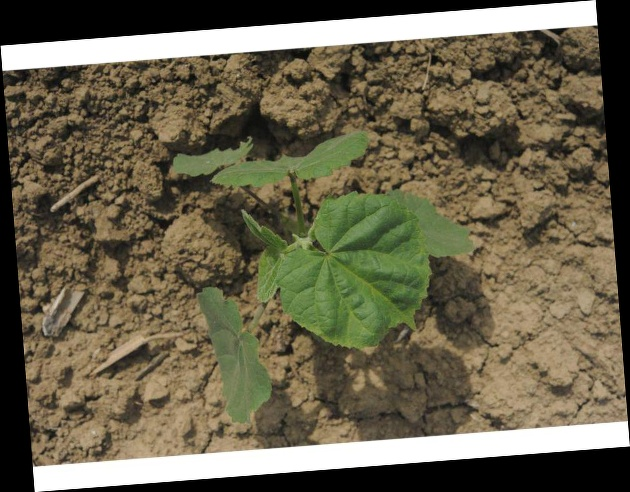velvet: (180, 131, 476, 416)
